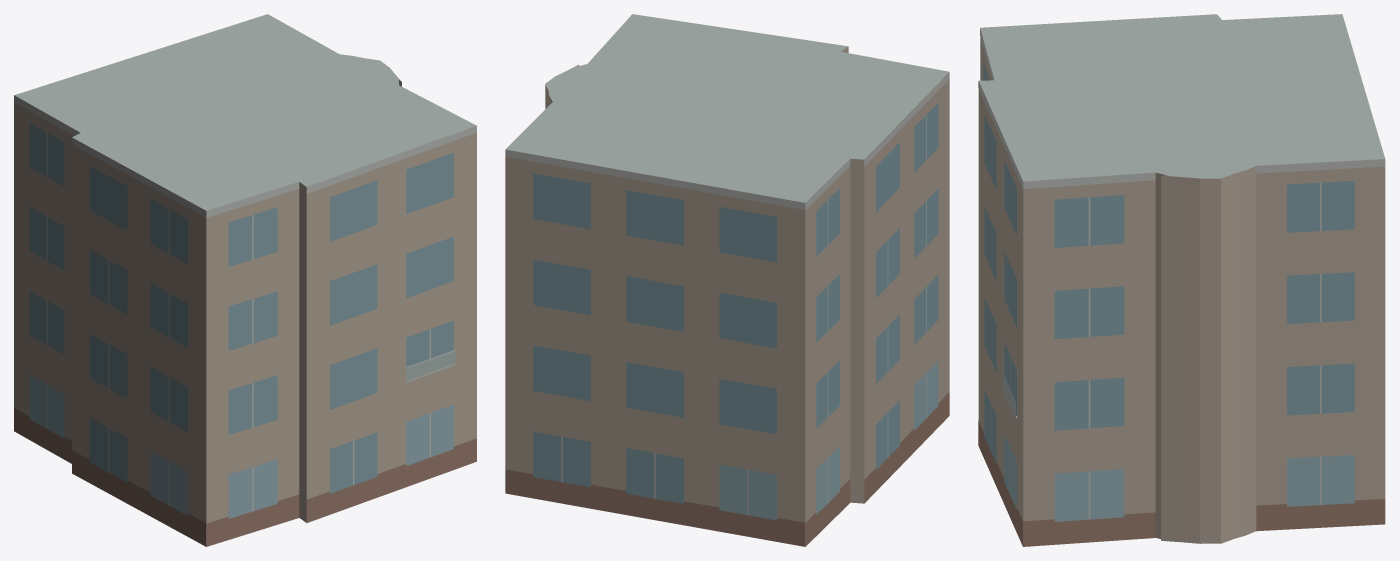
The model's file is survey-upis-32734513.glb.
3 renders of one model, left to right at view 1: azimuth 30°, elevation 25°; view 2: azimuth 150°, elevation 25°; view 3: azimuth 270°, elevation 25°, orthographic. The views are drawn at different scales.
Parts seen in each view (by area): view 1: survey-upis-32734513.tmp; view 2: survey-upis-32734513.tmp; view 3: survey-upis-32734513.tmp.
Part boxes in pixels (bbox=[...]): survey-upis-32734513.tmp: bbox=[14, 14, 476, 546]; survey-upis-32734513.tmp: bbox=[505, 14, 949, 546]; survey-upis-32734513.tmp: bbox=[978, 14, 1385, 546].
Size of the model in its own units: 11.52 by 11.7 by 11.82.
